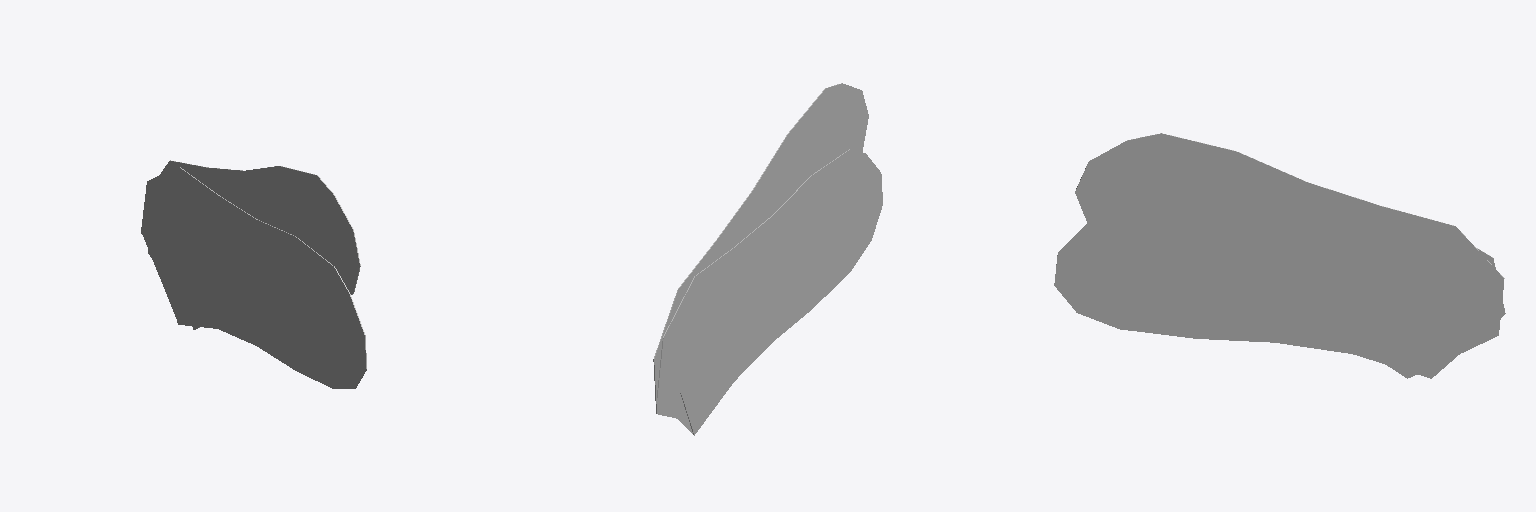
File: Dirty Socks.obj
3 renders of one model, left to right at view 1: azimuth 30°, elevation 25°; view 2: azimuth 150°, elevation 25°; view 3: azimuth 270°, elevation 25°, orthographic.
Visible parts, largest first — view 1: Box001, Box002; view 2: Box001, Box002; view 3: Box002, Box001.
Boxes of the visible parts, box(x1,y1,x2,y2) form: Box001: box(141, 167, 366, 388); Box002: box(148, 160, 360, 329); Box001: box(657, 149, 882, 435); Box002: box(653, 83, 868, 418); Box002: box(1075, 133, 1504, 378); Box001: box(1054, 223, 1505, 378).
Size of the model in its own units: 0.0929 by 4.7 by 7.78.